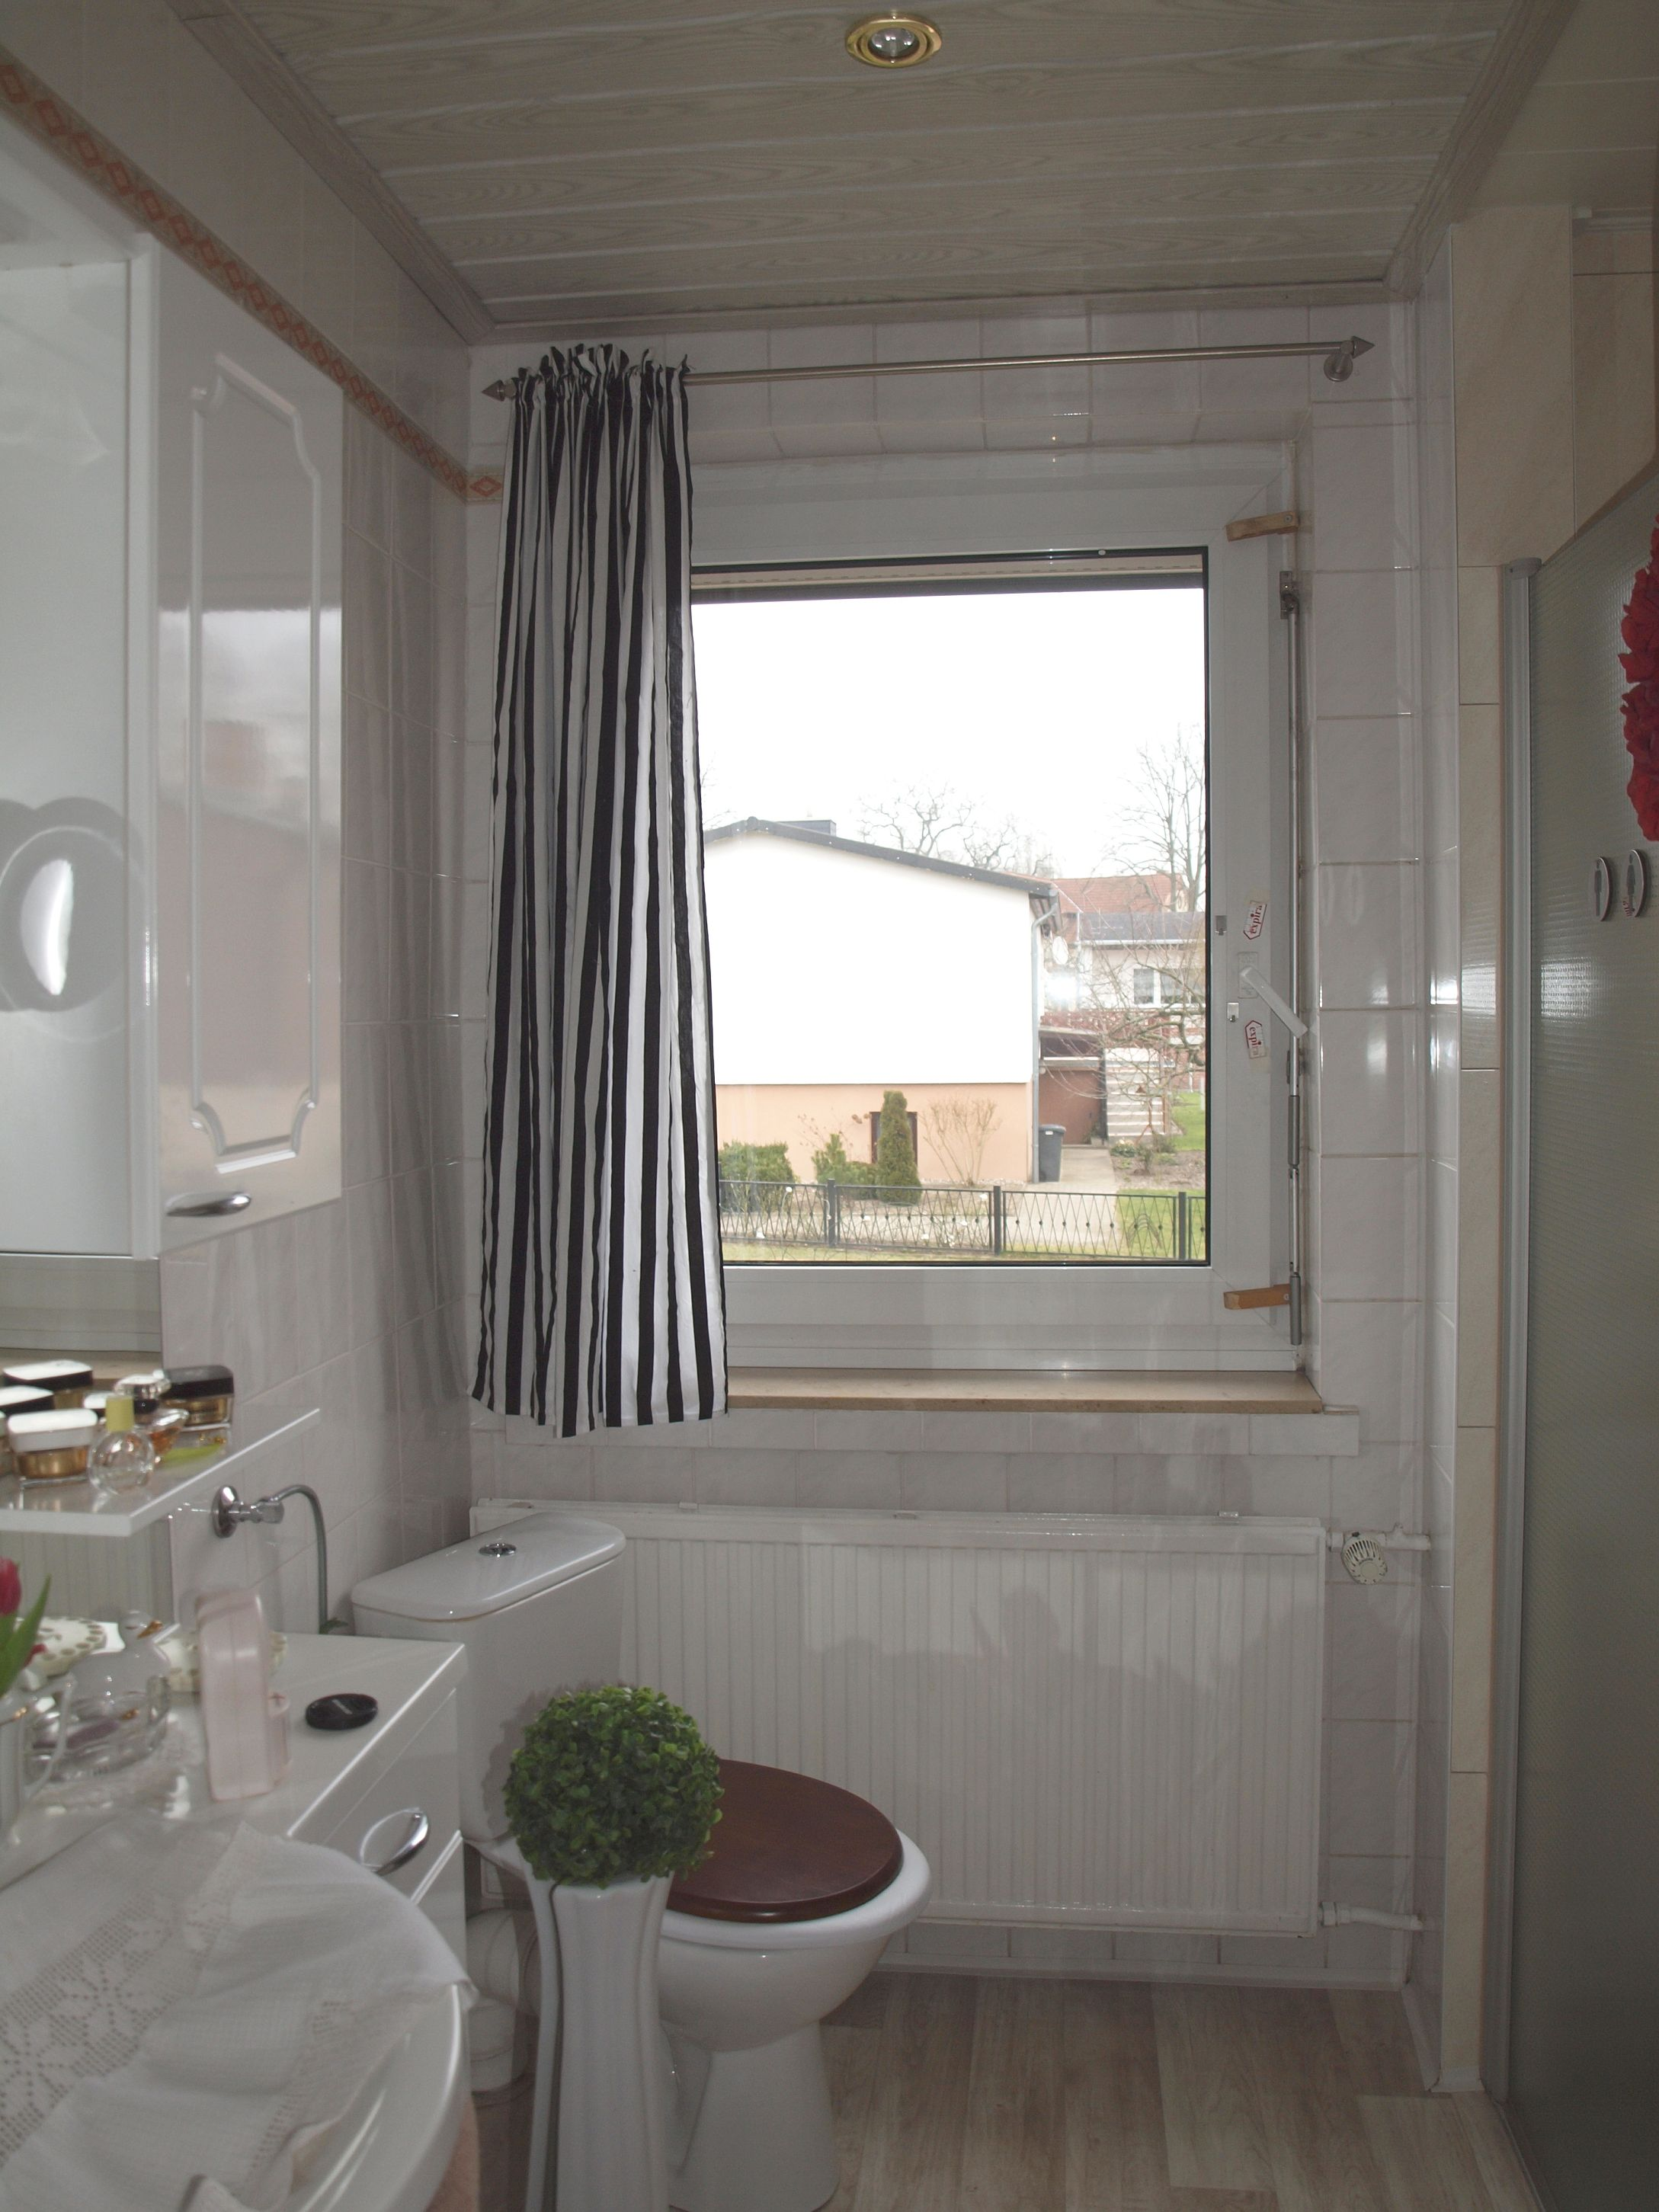windows: (681, 589, 1316, 1378)
